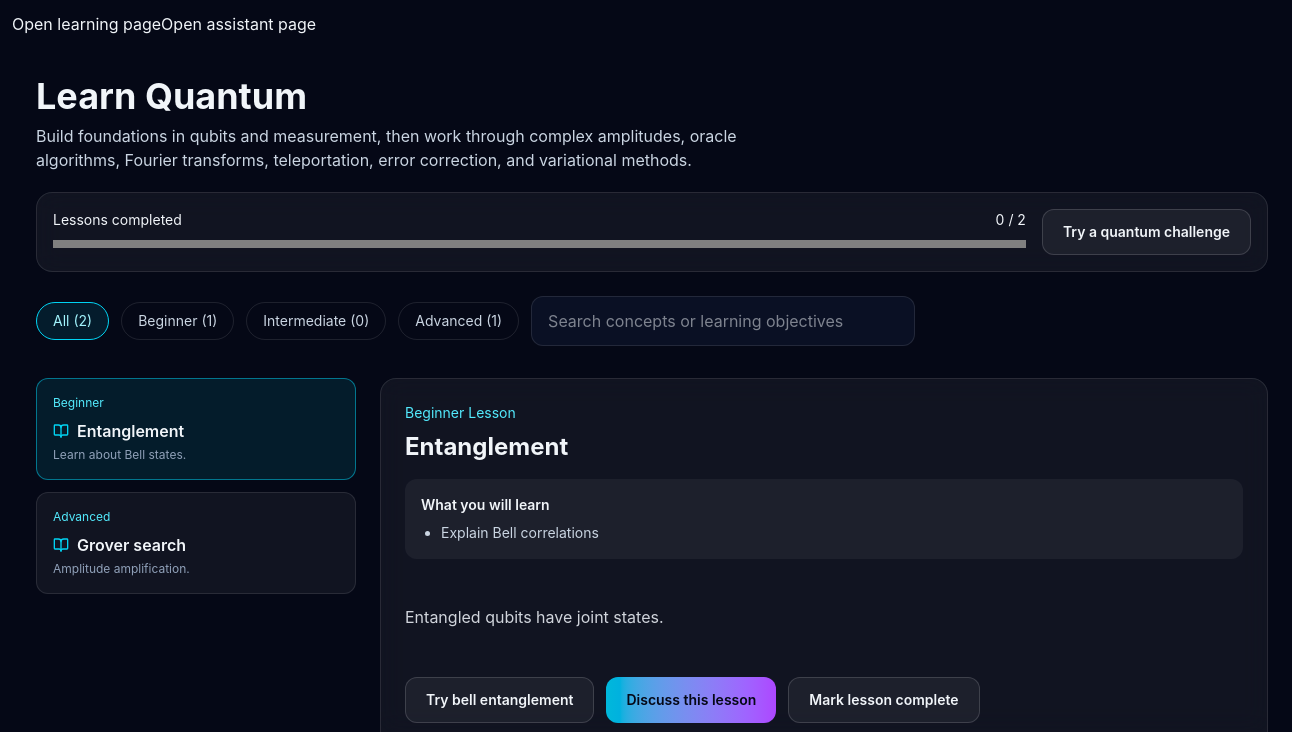
aborts an old topic request and starts a fresh conversation for the new lesson
Click the link "Discuss this lesson": (691, 700) 606,677 -> 776,723
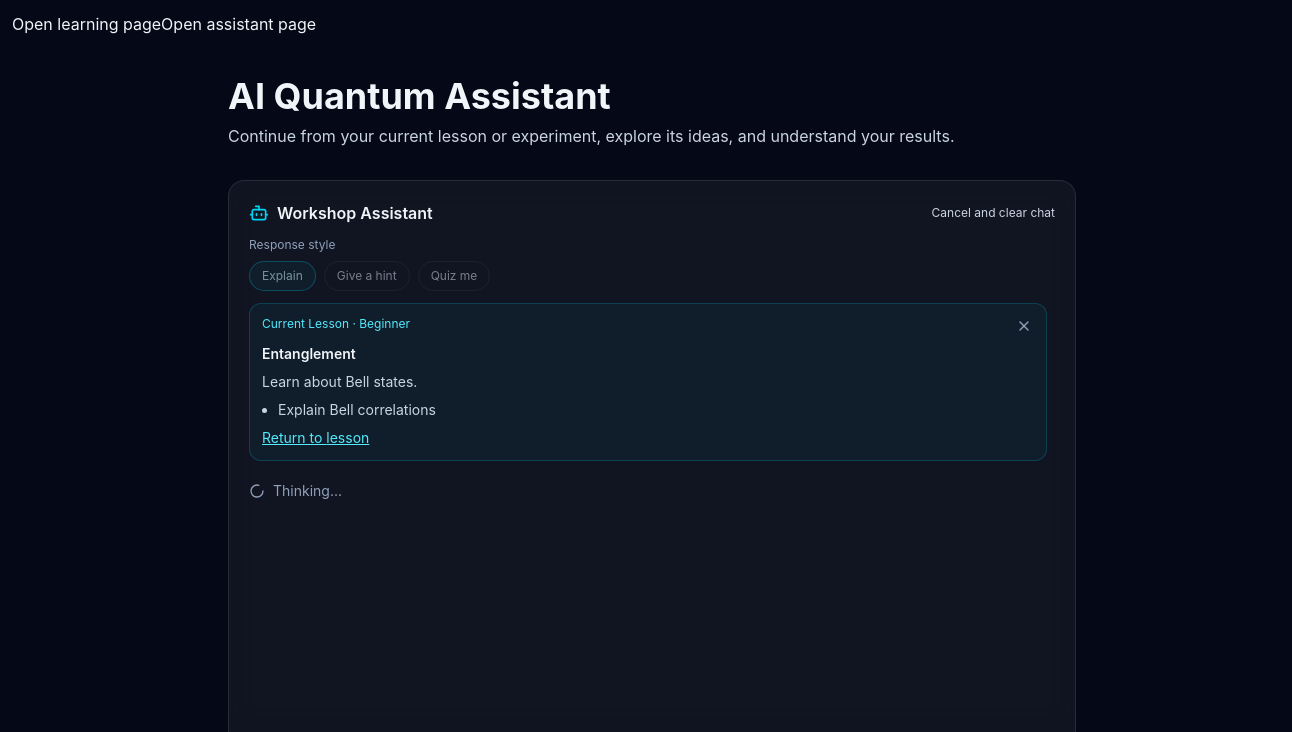
expect the message "Thinking..." is shown: met, box 249,482 -> 342,499
Click the link "Open learning page": (87, 24) 12,14 -> 161,34
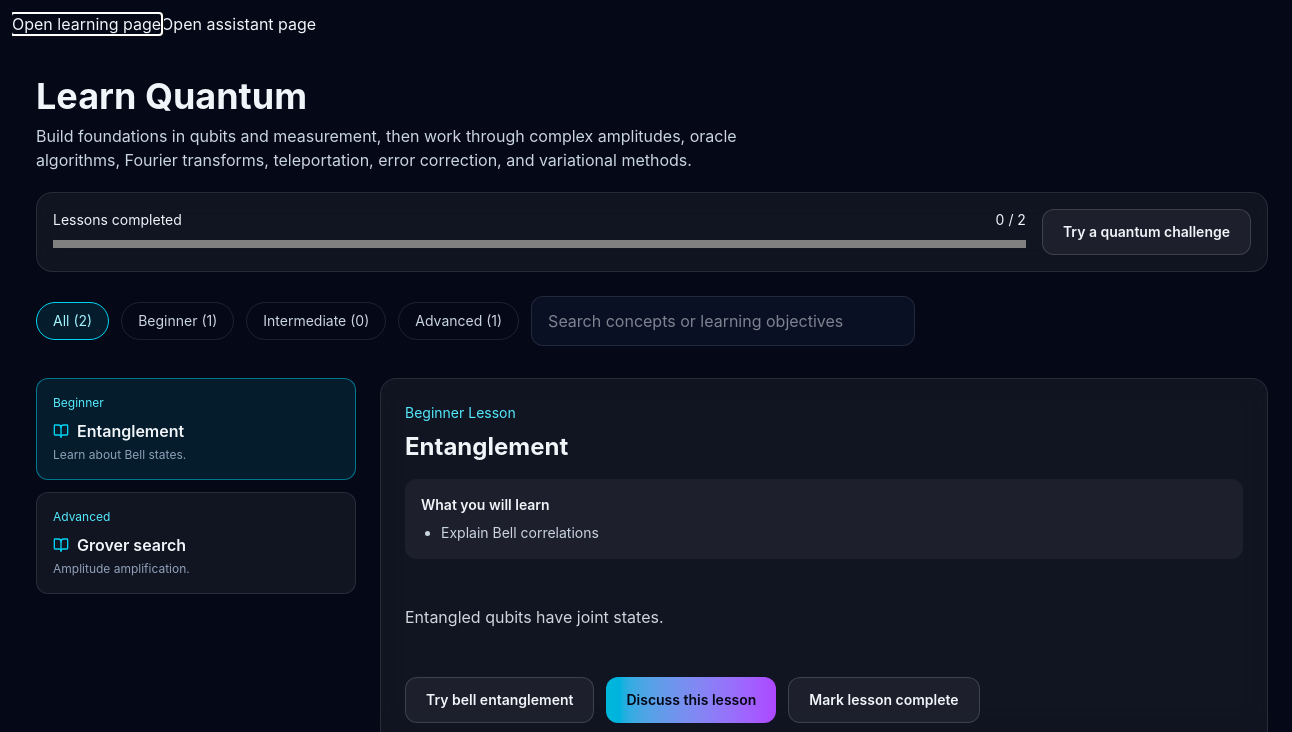
Click the button "advanced Grover search Amplitude amplification.": (82, 516) 36,492 -> 356,594
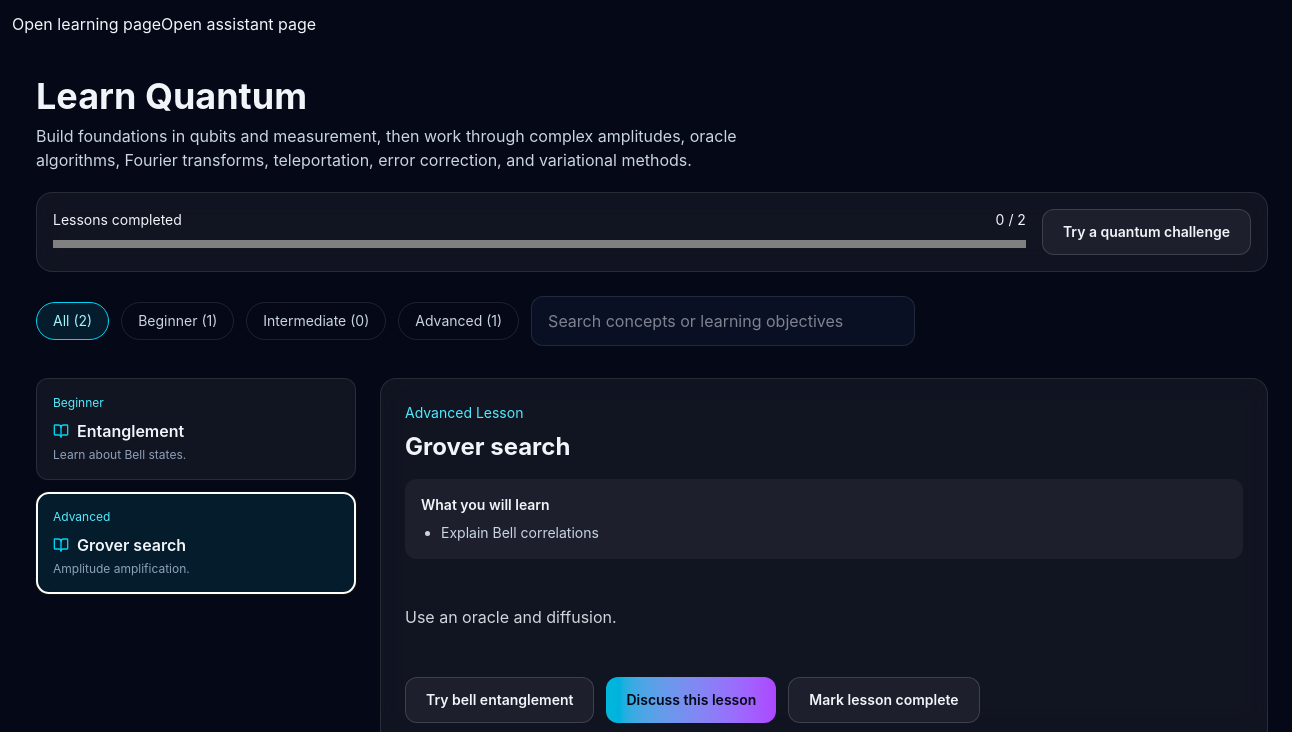
Click the link "Discuss this lesson": (691, 700) 606,677 -> 776,723
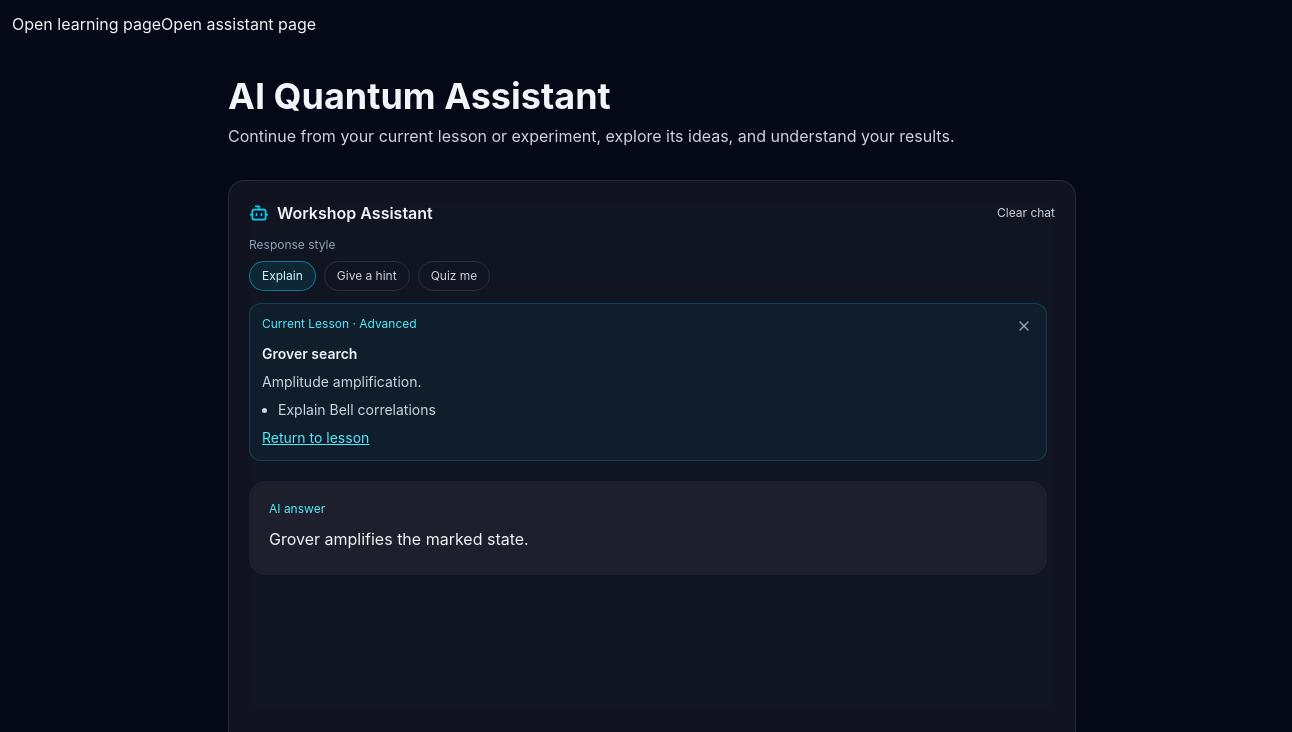
expect the text "Grover amplifies the marked state." is shown: met, box 269,529 -> 529,549
